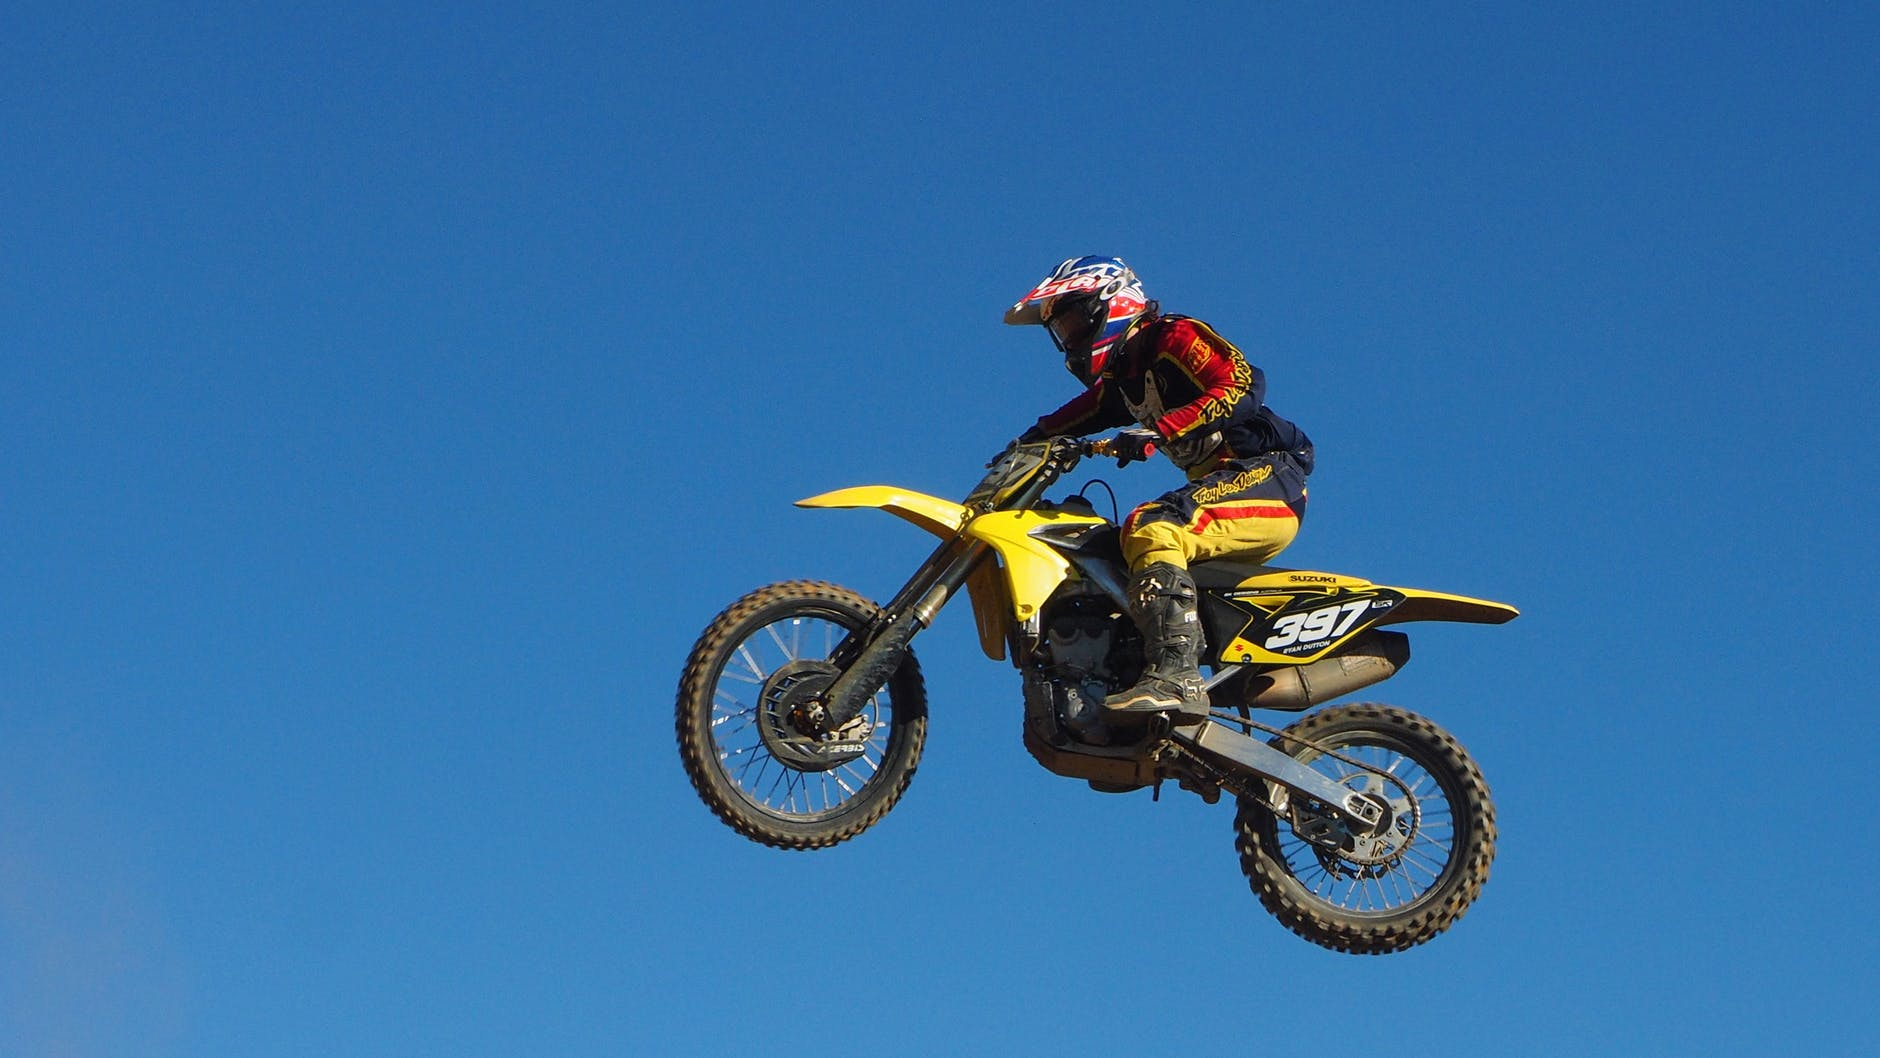helmet: (1030, 251, 1147, 368)
